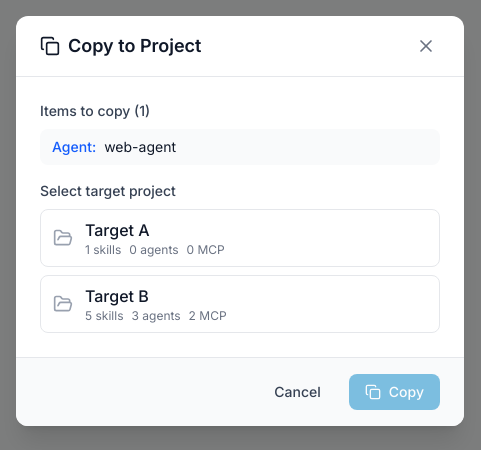
it: CopyToProjectModal › enables Copy button after selecting target
expect the button "Copy" is disabled: met, box top-left (349, 374), bottom-right (440, 410)
Click the text "Target A".
click(117, 230)  # box top-left (85, 220), bottom-right (150, 240)
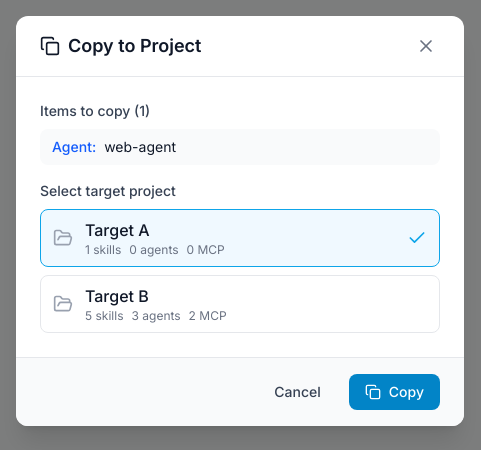
expect the button "Copy" is enabled: met, box top-left (349, 374), bottom-right (440, 410)
